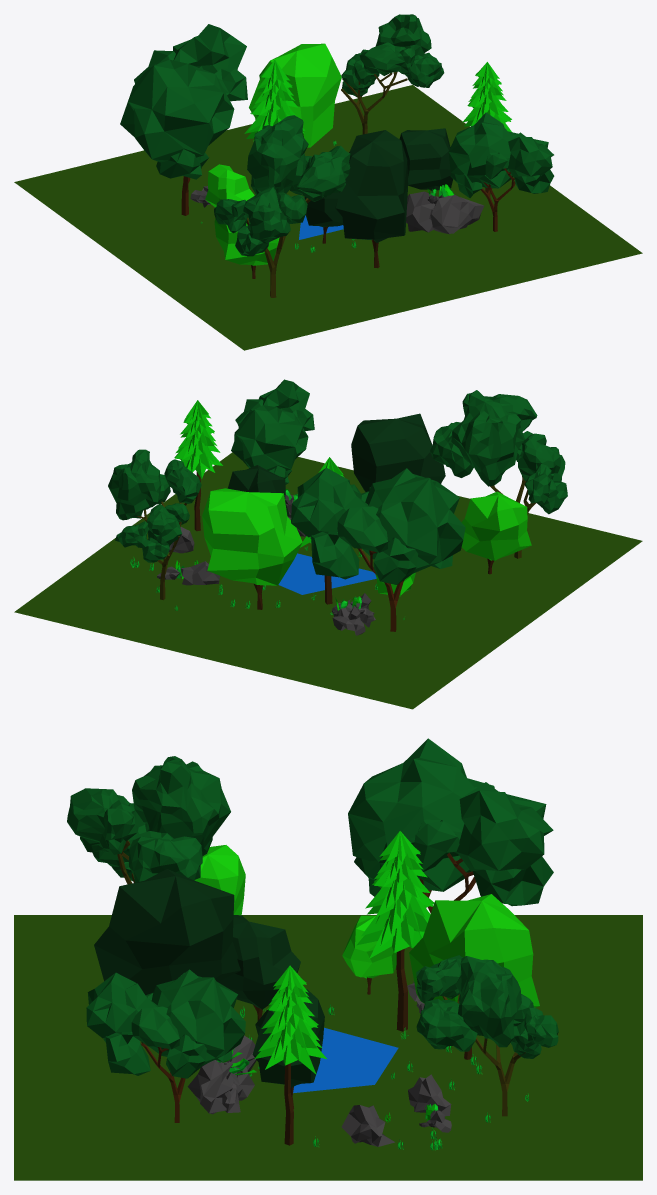
Rendered from tex.obj.
The picture shows the model from 3 angles, top to bottom: view 1: azimuth 30°, elevation 25°; view 2: azimuth 150°, elevation 25°; view 3: azimuth 270°, elevation 25°; orthographic projection. The views are drawn at different scales.
Parts seen in each view (by area): view 1: Плоскость.002_Плоскость, Crown.001, Crown.005_Crown.002, Tree_PROXY.001_Cylinder.002, Crown, Crown.004_Crown.002, Tree_PROXY.005_Cylinder.001, Tree_PROXY_Cylinder.002, Crown.003_Vert, Crown.002_Vert, LP_Stone_B.004_Mesh.008, Tree_PROXY.004_Cylinder.001 (+5 smaller); view 2: Плоскость.002_Плоскость, Crown.001, Crown.005_Crown.002, Tree_PROXY.005_Cylinder.001, Crown.004_Crown.002, Crown, Tree_PROXY.001_Cylinder.002, Tree_PROXY.003_Cylinder.001, Crown.002_Vert, Плоскость.001_Плоскость.003, Tree_PROXY_Cylinder.002, LP_Stone_B_Mesh.003 (+2 smaller); view 3: Плоскость.002_Плоскость, Crown.001, Crown.005_Crown.002, Tree_PROXY.001_Cylinder.002, Crown, Crown.004_Crown.002, Tree_PROXY.005_Cylinder.001, Crown.003_Vert, Tree_PROXY.002_Cylinder.002, Crown.002_Vert, Плоскость.001_Плоскость.003, Tree_PROXY_Cylinder.002 (+9 smaller).
Part boxes in pixels (x1=…): Плоскость.002_Плоскость: x1=14, y1=85, x2=642, y2=350; Crown.001: x1=120, y1=24, x2=247, y2=179; Crown.005_Crown.002: x1=214, y1=115, x2=350, y2=256; Tree_PROXY.001_Cylinder.002: x1=335, y1=130, x2=408, y2=268; Crown: x1=448, y1=112, x2=554, y2=197; Crown.004_Crown.002: x1=341, y1=14, x2=444, y2=96; Tree_PROXY.005_Cylinder.001: x1=249, y1=43, x2=341, y2=147; Tree_PROXY_Cylinder.002: x1=399, y1=128, x2=453, y2=192; Crown.003_Vert: x1=244, y1=60, x2=304, y2=141; Crown.002_Vert: x1=462, y1=62, x2=511, y2=131; LP_Stone_B.004_Mesh.008: x1=430, y1=194, x2=484, y2=234; Tree_PROXY.004_Cylinder.001: x1=205, y1=164, x2=254, y2=207; Плоскость.002_Плоскость: x1=14, y1=452, x2=642, y2=709; Crown.001: x1=291, y1=467, x2=465, y2=584; Crown.005_Crown.002: x1=430, y1=390, x2=567, y2=514; Tree_PROXY.005_Cylinder.001: x1=202, y1=488, x2=302, y2=609; Crown.004_Crown.002: x1=108, y1=449, x2=201, y2=562; Crown: x1=231, y1=379, x2=314, y2=484; Tree_PROXY.001_Cylinder.002: x1=351, y1=413, x2=445, y2=491; Tree_PROXY.003_Cylinder.001: x1=461, y1=491, x2=531, y2=574; Crown.002_Vert: x1=174, y1=400, x2=222, y2=478; Плоскость.001_Плоскость.003: x1=278, y1=553, x2=376, y2=594; Tree_PROXY_Cylinder.002: x1=227, y1=465, x2=289, y2=515; LP_Stone_B_Mesh.003: x1=180, y1=561, x2=219, y2=585; Плоскость.002_Плоскость: x1=14, y1=915, x2=642, y2=1180; Crown.001: x1=348, y1=738, x2=553, y2=906; Crown.005_Crown.002: x1=67, y1=756, x2=230, y2=882; Tree_PROXY.001_Cylinder.002: x1=94, y1=869, x2=240, y2=995; Crown: x1=86, y1=969, x2=245, y2=1078; Crown.004_Crown.002: x1=416, y1=955, x2=558, y2=1058; Tree_PROXY.005_Cylinder.001: x1=409, y1=894, x2=539, y2=1059; Crown.003_Vert: x1=356, y1=831, x2=434, y2=958; Tree_PROXY.002_Cylinder.002: x1=218, y1=915, x2=300, y2=1020; Crown.002_Vert: x1=254, y1=965, x2=326, y2=1074; Плоскость.001_Плоскость.003: x1=293, y1=1027, x2=398, y2=1093; Tree_PROXY_Cylinder.002: x1=252, y1=989, x2=324, y2=1108.
Size of the model in its own units: 21.72 by 9.02 by 21.72.
